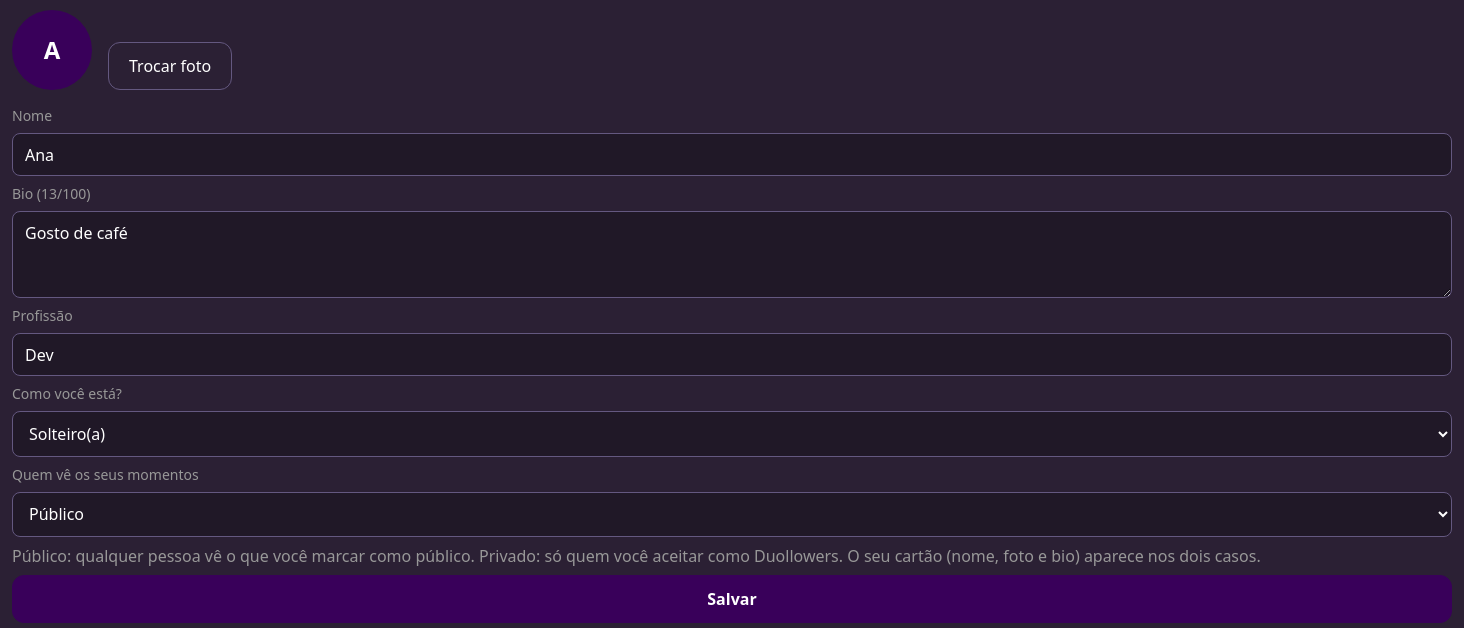
it: EditProfileForm › mostra o motivo quando o backend recusa o perfil
Click the button "Salvar". click: (732, 599)
box: x1=12 y1=575 x2=1452 y2=623
(page scrolled)
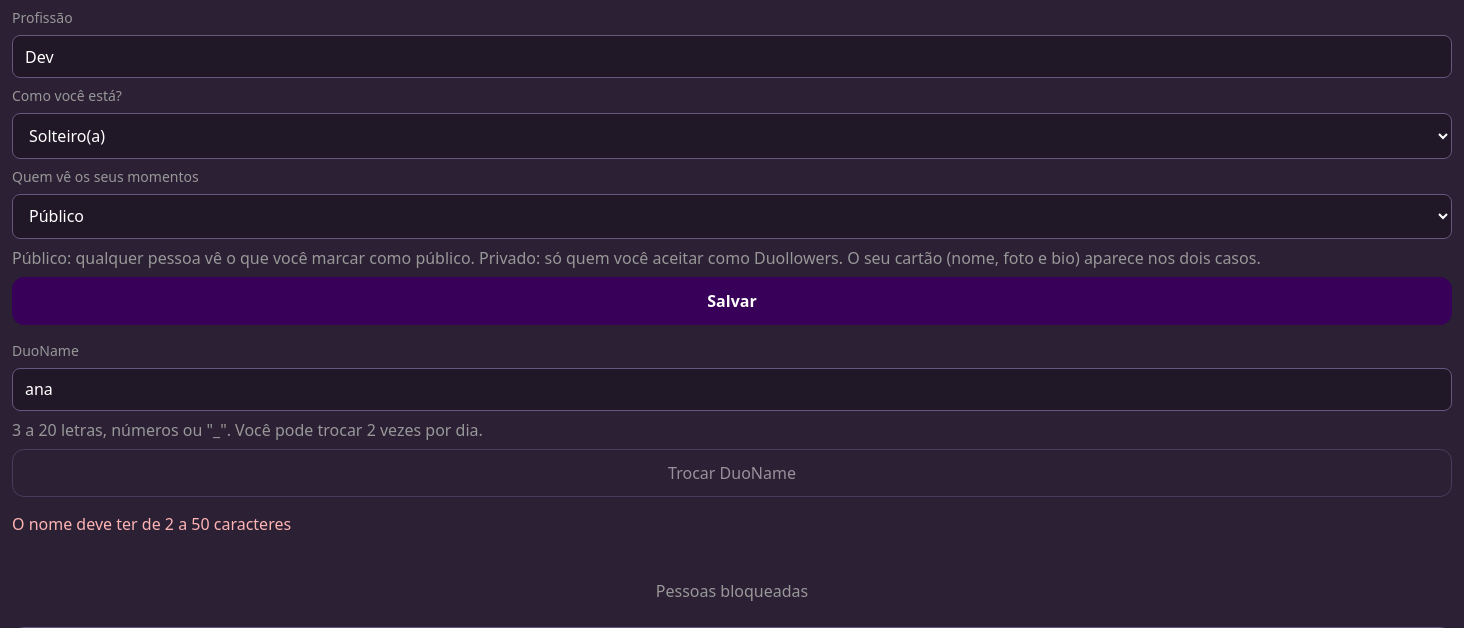
Check: the message shows "O nome deve ter de 2 a 50", box x1=12 y1=513 x2=291 y2=535
